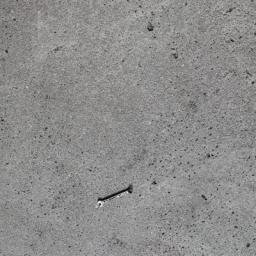FOD: (96, 185, 138, 208)
